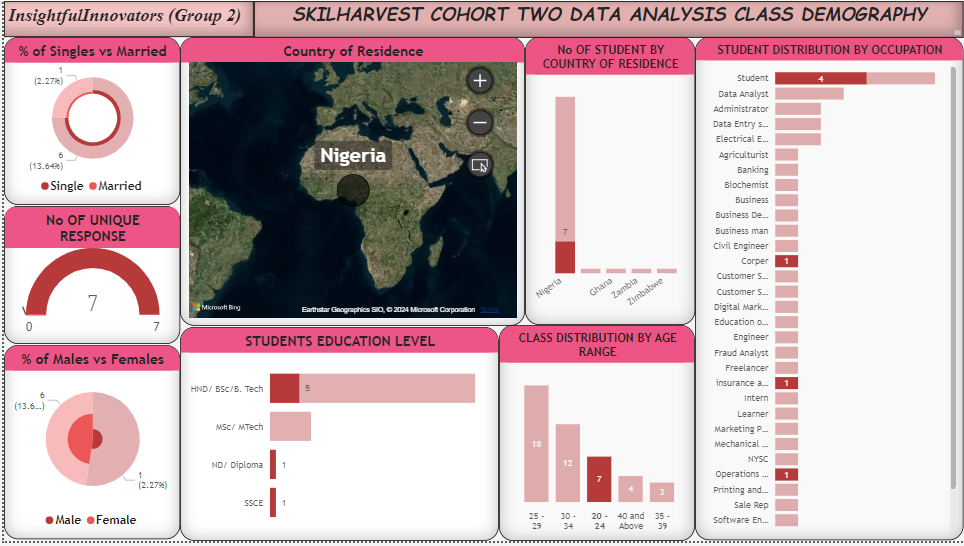

This screenshot's page, from the dashboard's own definition file:
{"tool":"powerbi","page":{"name":"Page 1","canvas":[1280,720],"ordinal":0},"visuals":[{"type":"map","fields":{"Category":["Form Responses 1.Country of Residence"]},"box":[234.7,48,460,385.3],"z":1000},{"type":"pieChart","title":"% of Males vs Females","fields":{"Category":["Form Responses 1.Gender"],"Y":["CountNonNull(Form Responses 1.Gender)"]},"box":[0,458.7,234.7,258.7],"z":2000},{"type":"donutChart","title":"% of Singles vs Married","fields":{"Y":["CountNonNull(Form Responses 1.Marital Status)"],"Category":["Form Responses 1.Marital Status"]},"box":[0,48,234.7,224],"z":3000},{"type":"textbox","title":"SKILHARVEST COHORT TWO DATA ANALYSIS CLASS DEMOGRAPHY","box":[333.9,0,946.1,48.5],"z":4000},{"type":"textbox","box":[0,0,333.3,48],"z":5000},{"type":"clusteredColumnChart","title":"CLASS DISTRIBUTION BY AGE RANGE","fields":{"Category":["Form Responses 1.Age Range"],"Y":["CountNonNull(Form Responses 1.Age Range)"]},"box":[660,432,261.3,288],"z":6000},{"type":"gauge","title":"No OF UNIQUE RESPONSE","fields":{"Y":["Count(Form Responses 1.Names)"],"MaxValue":["Count(Form Responses 1.Names)"]},"box":[0,273.3,234.7,184],"z":7000},{"type":"clusteredBarChart","title":"STUDENTS EDUCATION LEVEL","fields":{"Category":["Form Responses 1.Highest level of Education"],"Y":["CountNonNull(Form Responses 1.Highest level of Education)"]},"box":[234.7,434.7,425.3,285.3],"z":8000},{"type":"clusteredBarChart","title":"STUDENT DISTRIBUTION BY OCCUPATION","fields":{"Category":["Form Responses 1.Occupation"],"Y":["CountNonNull(Form Responses 1.Occupation)"]},"box":[921.8,48.5,358.2,670.7],"z":9000},{"type":"clusteredColumnChart","title":"No OF STUDENT BY COUNTRY OF RESIDENCE","fields":{"Category":["Form Responses 1.Country of Residence"],"Y":["Count(Form Responses 1.Names)"]},"box":[694.7,48,226.7,384],"z":9001}]}

Visuals, with their boxes in screenshot pixels (x1, y1, x2, y2), scaled from the page's 1280x720 canvas onto the 964x546 screenshot:
map - Form Responses 1.Country of Residence: region(177, 36, 523, 329)
"% of Males vs Females" pieChart: region(0, 348, 177, 544)
"% of Singles vs Married" donutChart: region(0, 36, 177, 206)
"SKILHARVEST COHORT TWO DATA ANALYSIS CLASS DEMOGRAPHY" textbox: region(251, 0, 963, 37)
textbox: region(0, 0, 251, 36)
"CLASS DISTRIBUTION BY AGE RANGE" clusteredColumnChart: region(497, 328, 694, 545)
"No OF UNIQUE RESPONSE" gauge: region(0, 207, 177, 347)
"STUDENTS EDUCATION LEVEL" clusteredBarChart: region(177, 330, 497, 545)
"STUDENT DISTRIBUTION BY OCCUPATION" clusteredBarChart: region(694, 37, 963, 545)
"No OF STUDENT BY COUNTRY OF RESIDENCE" clusteredColumnChart: region(523, 36, 694, 328)
